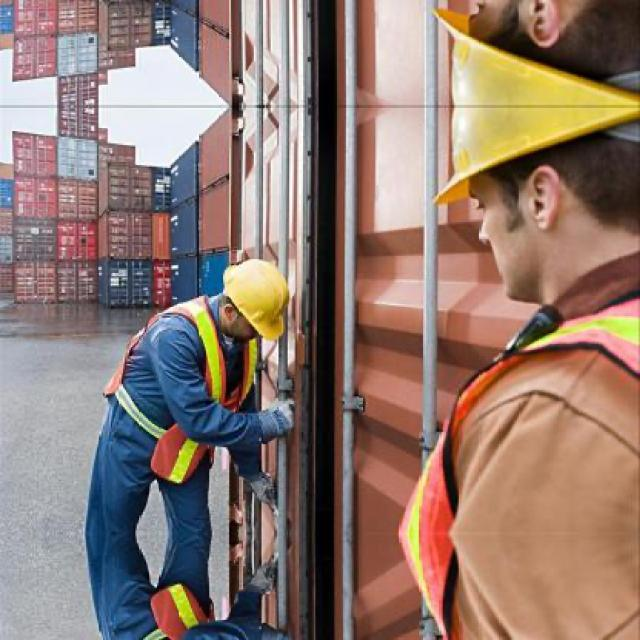con casco: (165, 248, 328, 380)
